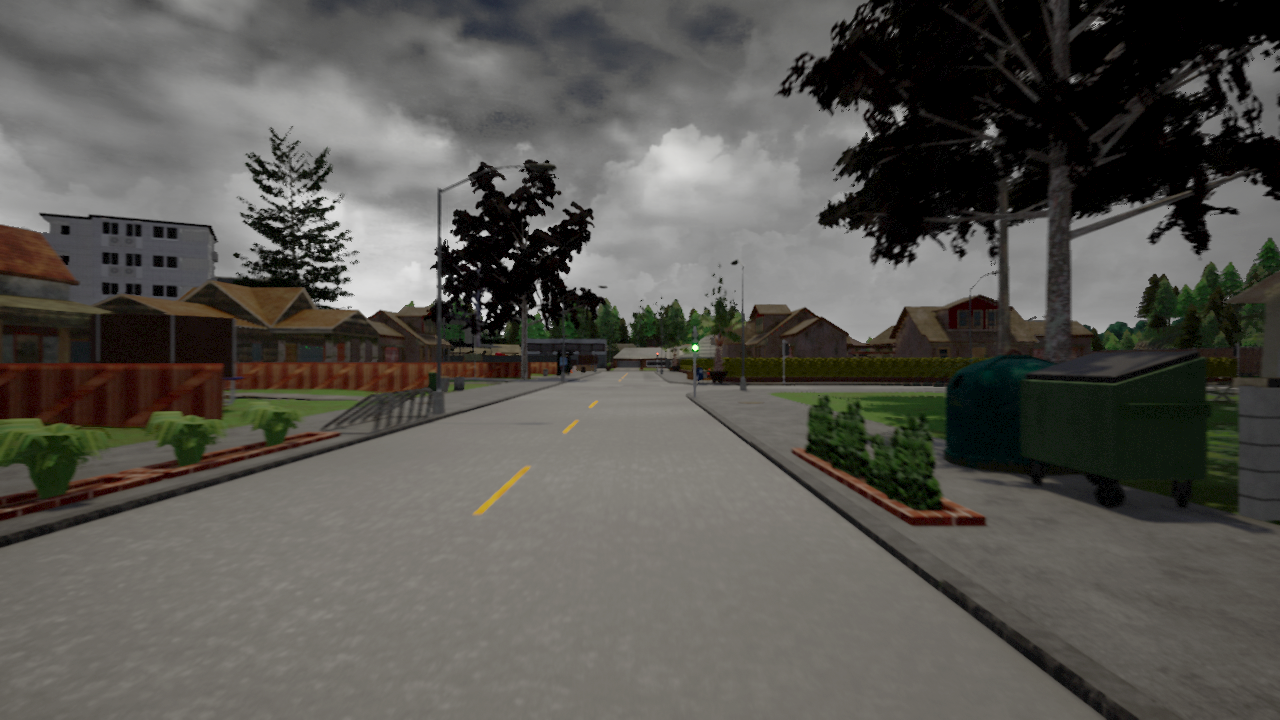green: (690, 330, 699, 353)
